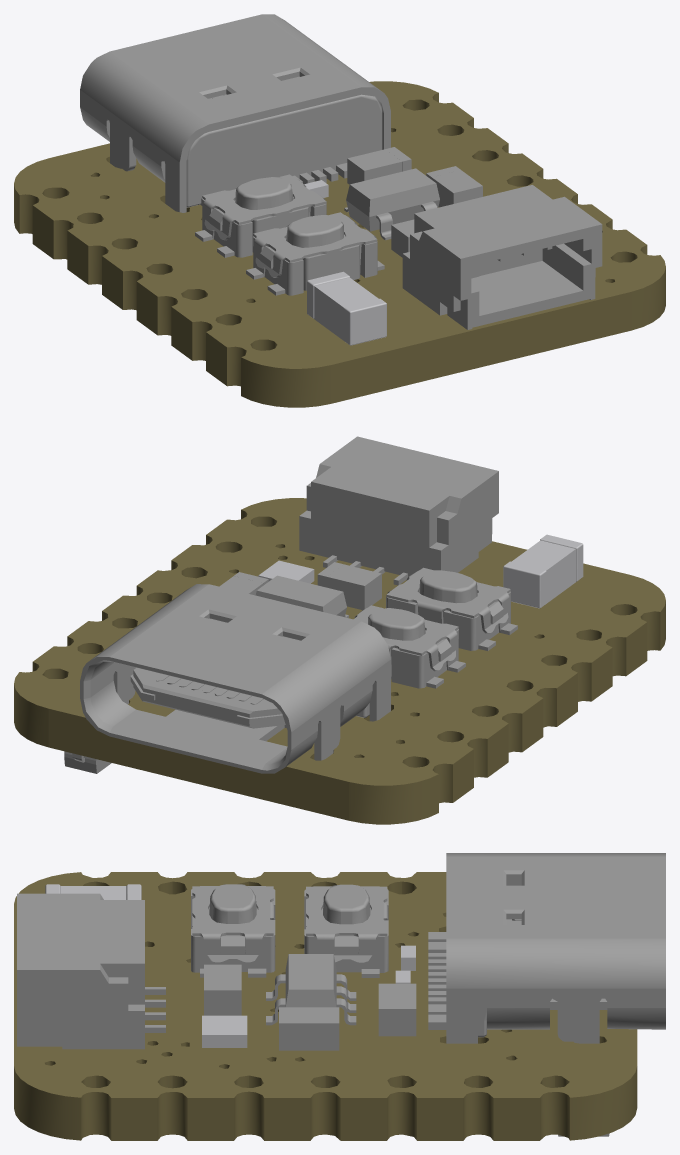
Rendered from ada-5325.glb.
3 renders of one model, top to bottom at view 1: azimuth 30°, elevation 25°; view 2: azimuth 150°, elevation 25°; view 3: azimuth 270°, elevation 25°, orthographic. The views are drawn at different scales.
Parts seen in each view (by area): view 1: 0.3333333333333333_0.3333333333333333_0.3333333333333333_0, 0.16666666666666666_0.16666666666666666_0.08333333333333333_, 0.5833333333333334_0.5833333333333334_0.5833333333333334_0.8; view 2: 0.3333333333333333_0.3333333333333333_0.3333333333333333_0, 0.16666666666666666_0.16666666666666666_0.08333333333333333_, 0.5833333333333334_0.5833333333333334_0.5833333333333334_0.8; view 3: 0.3333333333333333_0.3333333333333333_0.3333333333333333_0, 0.16666666666666666_0.16666666666666666_0.08333333333333333_, 0.5833333333333334_0.5833333333333334_0.5833333333333334_0.8.
Part boxes in pixels (x1,y1,x2,y2): 0.3333333333333333_0.3333333333333333_0.3333333333333333_0: (80,14,602,329); 0.16666666666666666_0.16666666666666666_0.08333333333333333_: (14,81,665,407); 0.5833333333333334_0.5833333333333334_0.5833333333333334_0.8: (304,180,386,345); 0.3333333333333333_0.3333333333333333_0.3333333333333333_0: (64,436,517,773); 0.16666666666666666_0.16666666666666666_0.08333333333333333_: (14,498,665,824); 0.5833333333333334_0.5833333333333334_0.5833333333333334_0.8: (258,534,583,608); 0.3333333333333333_0.3333333333333333_0.3333333333333333_0: (17,853,665,1136); 0.16666666666666666_0.16666666666666666_0.08333333333333333_: (14,872,637,1140); 0.5833333333333334_0.5833333333333334_0.5833333333333334_0.8: (45,884,415,1047).
Bounding box in the file's own units: 1.78 × 0.5871 × 2.17.
